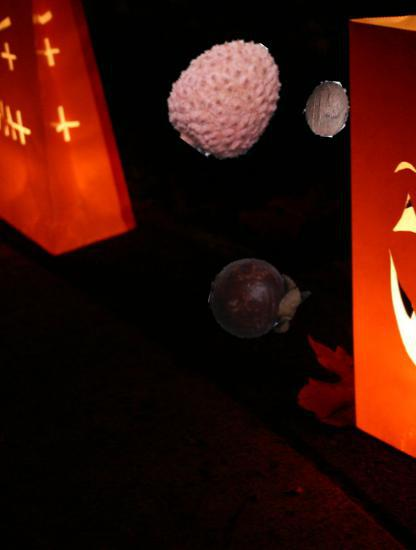Cocos: (298, 81, 354, 137)
Lychee: (166, 34, 290, 158)
Mangostan: (209, 250, 311, 352)
